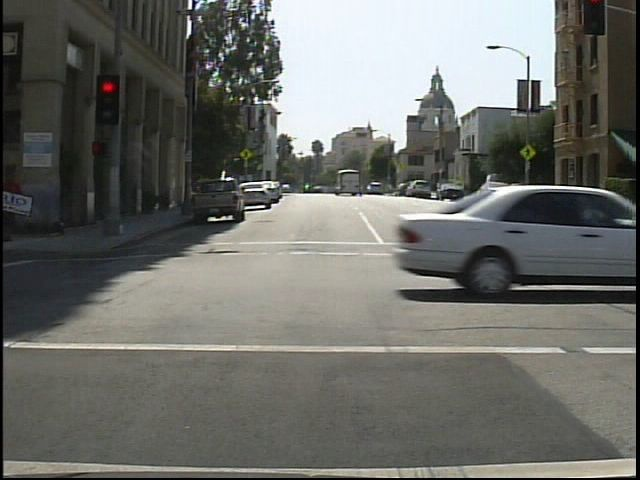person: (4, 157, 26, 243)
